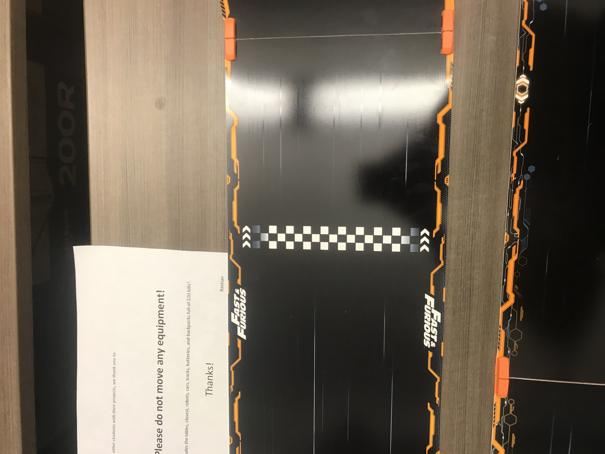Finish Line: (241, 224, 432, 254)
